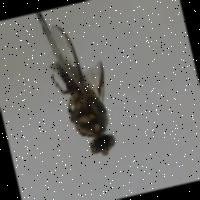Oriental-fruit-fly: (24, 11, 137, 188)
